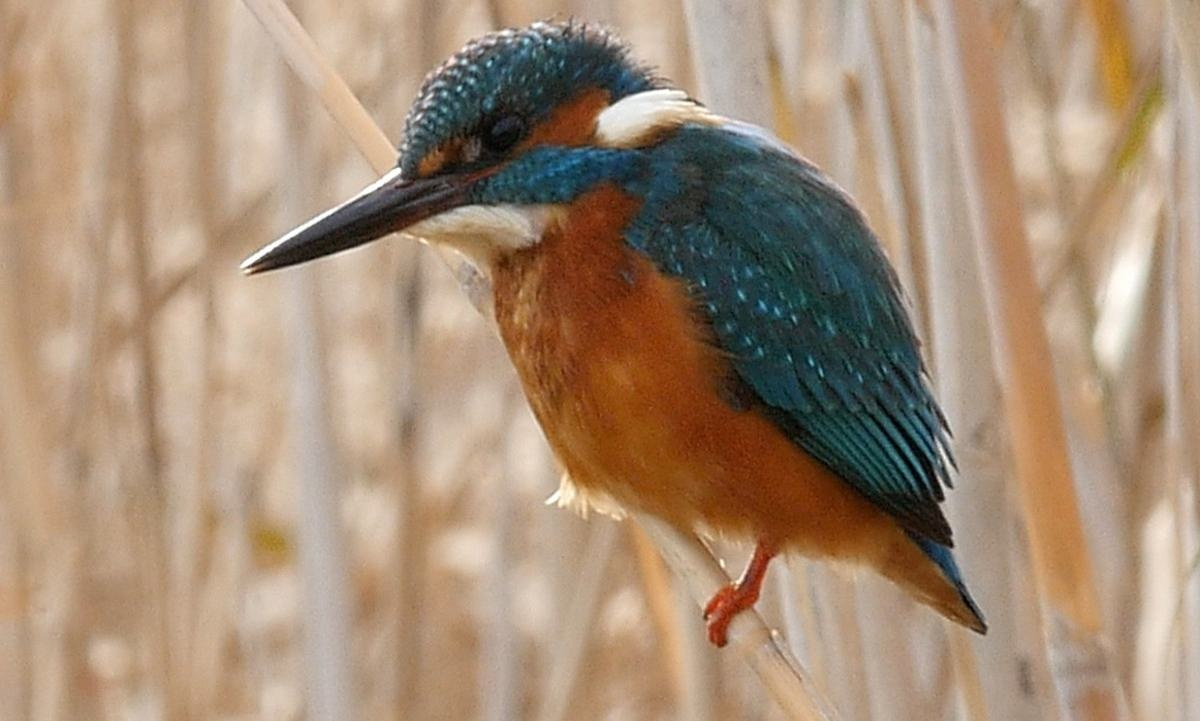kingfisher: (235, 14, 1044, 664)
